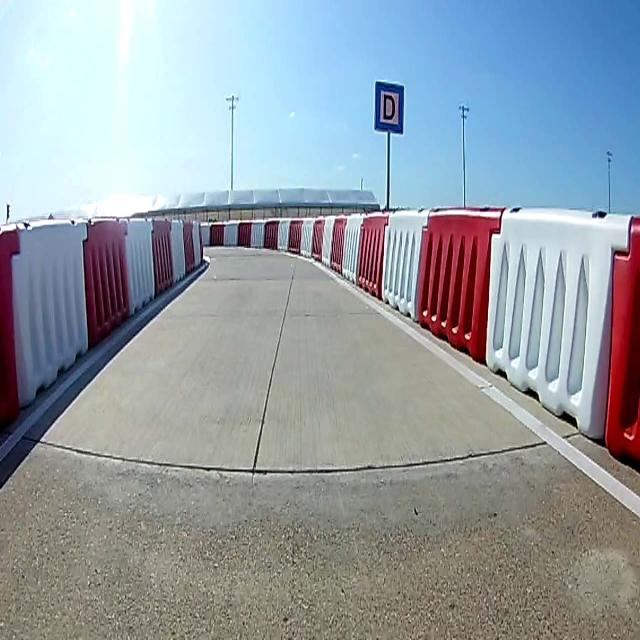durak: (374, 81, 404, 131)
